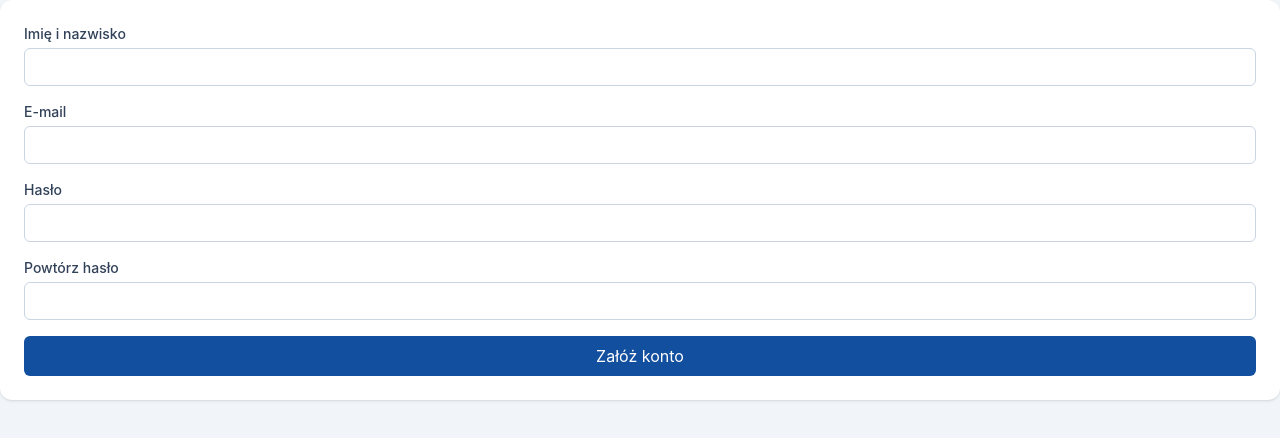
RegisterForm › różne hasła pokazują błąd przy polu powtórzenia
The width and height of the screenshot is (1280, 438).
Type "Ada Lovelace" into the field labelled "Imię i nazwisko" at [640, 67], box x1=24 y1=48 x2=1256 y2=86
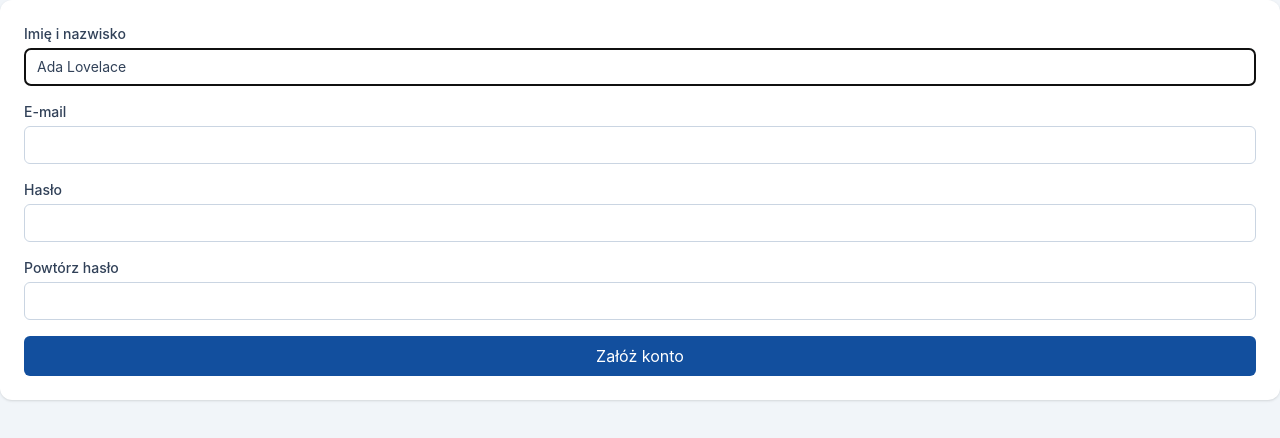
Type "ada@example.com" into the field labelled "E-mail" at [640, 145], box x1=24 y1=126 x2=1256 y2=164
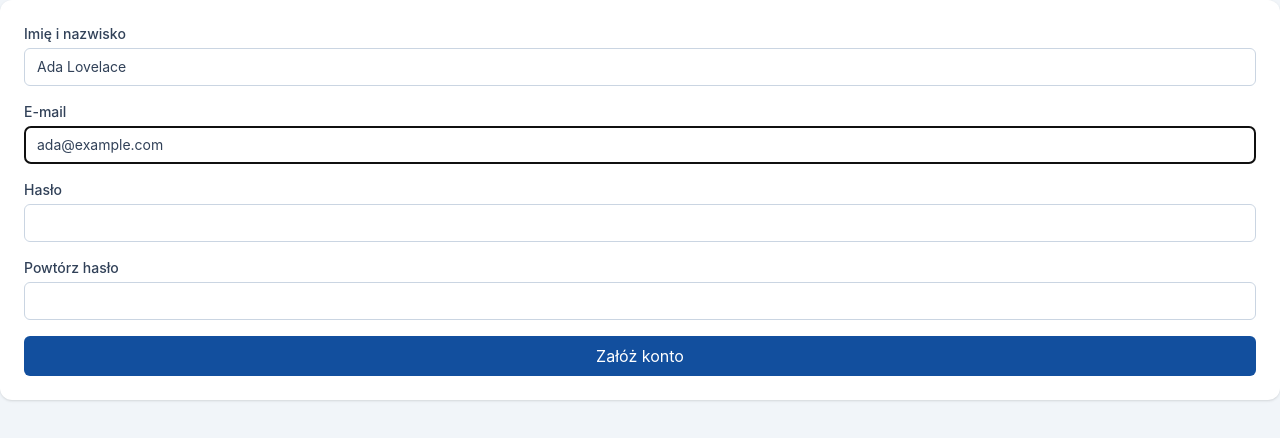
Type "Haslo12345!" into the password field labelled "Hasło" at [640, 223], box x1=24 y1=204 x2=1256 y2=242
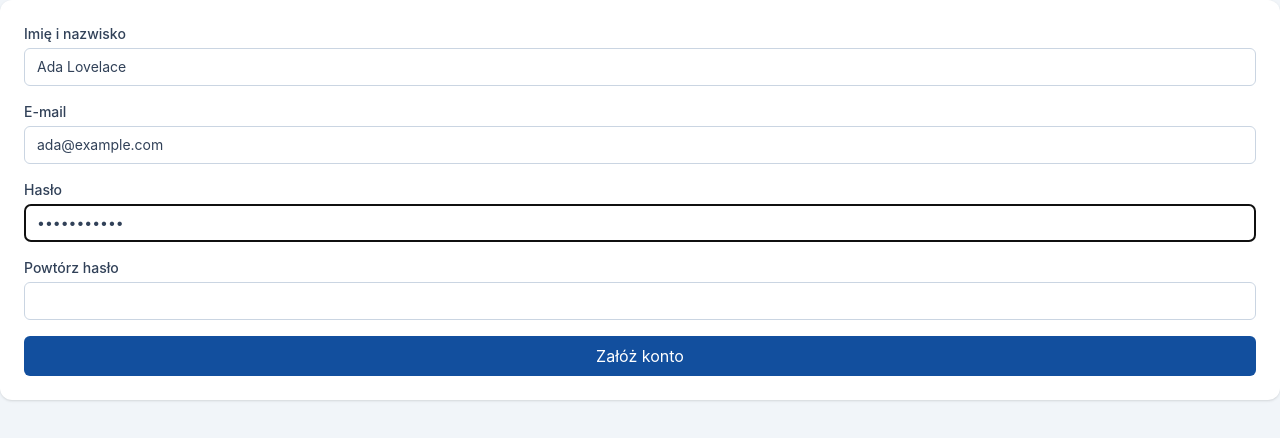
Type "inne-haslo" into the password field labelled "Powtórz hasło" at [640, 301], box x1=24 y1=282 x2=1256 y2=320
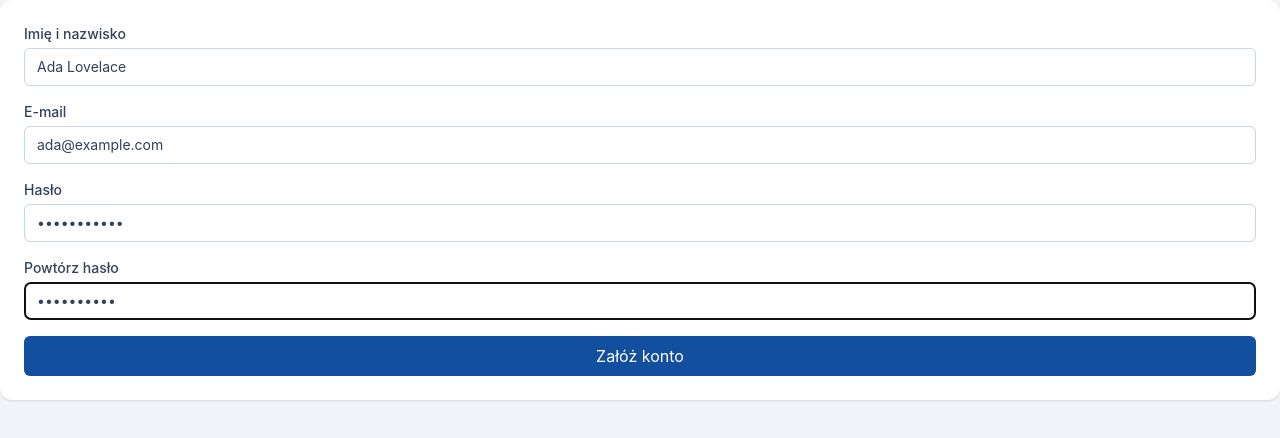
Click the button "Załóż konto" at [640, 356], box x1=24 y1=336 x2=1256 y2=376
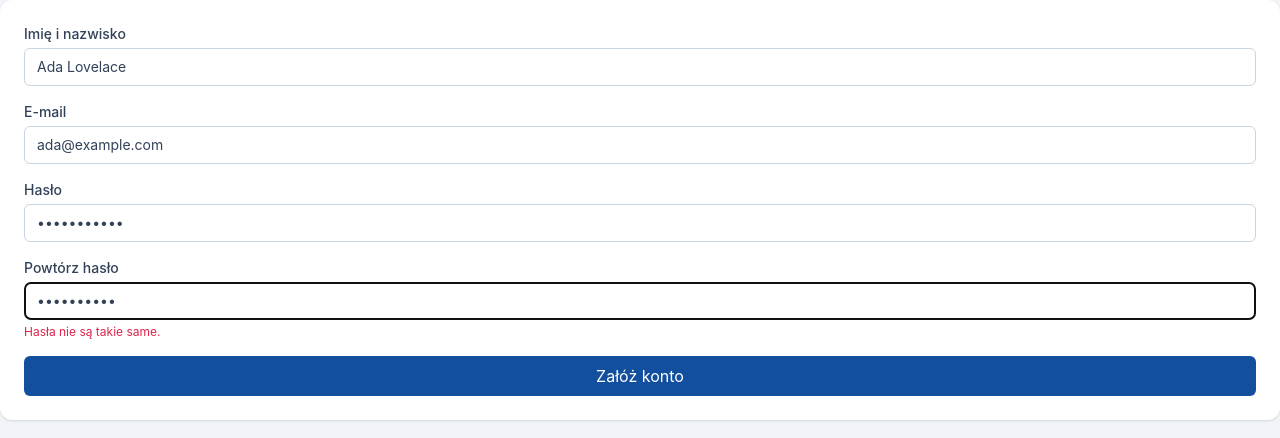
Expected: the text "Hasła nie są takie same." is shown, x1=24 y1=324 x2=160 y2=339
